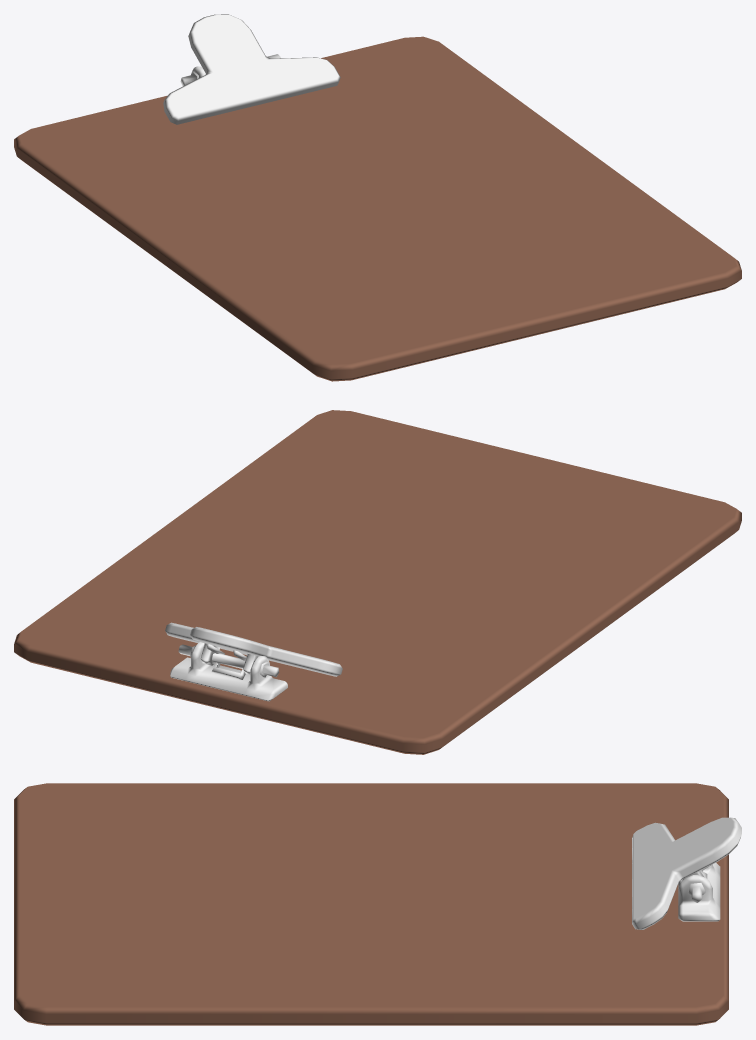
Rendered from Clipboard.fbx.
3 renders of one model, top to bottom at view 1: azimuth 30°, elevation 25°; view 2: azimuth 150°, elevation 25°; view 3: azimuth 270°, elevation 25°, orthographic. The views are drawn at different scales.
Parts seen in each view (by area): view 1: Cube.011; view 2: Cube.011; view 3: Cube.011.
Boxes of the visible parts, bbox=[...] form: Cube.011: bbox=[14, 14, 741, 381]; Cube.011: bbox=[14, 410, 741, 754]; Cube.011: bbox=[14, 783, 741, 1025].
Bounding box in the file's own units: 28.45 × 5.17 × 38.32.
